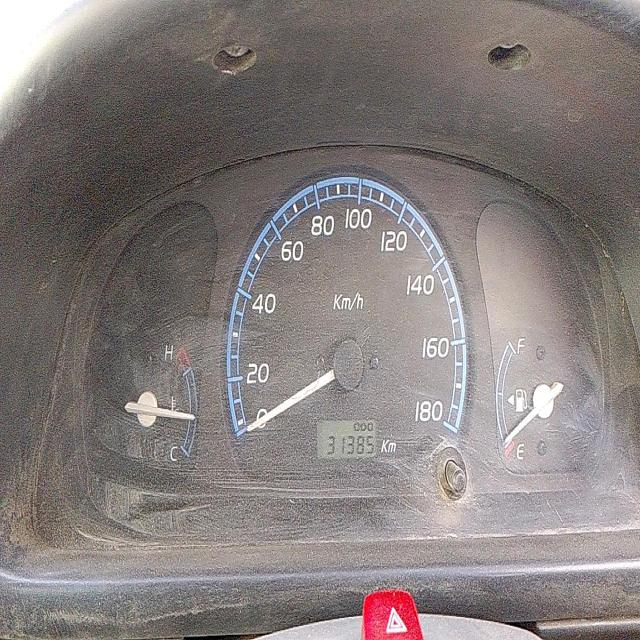odometer: (326, 432, 374, 456)
